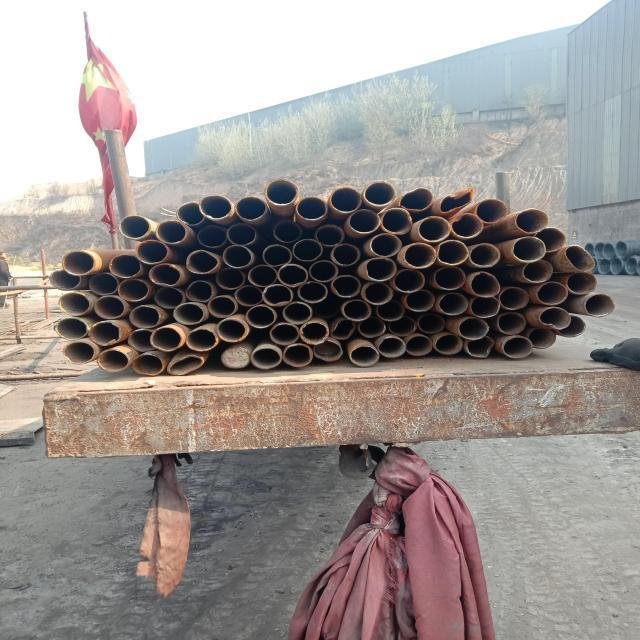pipe: (562, 243, 598, 274), (437, 188, 477, 215), (380, 207, 416, 237), (401, 242, 442, 268), (448, 212, 486, 240), (361, 178, 396, 208), (468, 270, 502, 300), (133, 240, 172, 266), (146, 263, 184, 289), (126, 303, 164, 329), (396, 186, 434, 212), (264, 177, 298, 206), (469, 242, 504, 270), (434, 238, 469, 266), (582, 293, 618, 320), (415, 216, 451, 243), (61, 250, 98, 276), (184, 249, 221, 275), (234, 195, 268, 223), (514, 207, 548, 235), (198, 194, 234, 220), (536, 305, 572, 331), (214, 318, 250, 344), (475, 197, 508, 225), (296, 195, 330, 222), (534, 226, 568, 253), (512, 237, 546, 264), (154, 220, 189, 246), (363, 257, 398, 283), (359, 280, 394, 306), (403, 288, 438, 314), (330, 186, 362, 214), (89, 319, 122, 346), (115, 278, 152, 302), (348, 208, 382, 234), (368, 232, 402, 258), (328, 272, 362, 298), (124, 327, 159, 352), (534, 281, 569, 306), (563, 272, 601, 295), (54, 316, 90, 340), (60, 340, 96, 364), (170, 302, 206, 326), (92, 295, 125, 321), (150, 326, 183, 352), (166, 354, 205, 376), (329, 242, 362, 268), (244, 304, 277, 330), (108, 253, 142, 278), (96, 348, 130, 373), (393, 268, 427, 293), (498, 287, 532, 312), (57, 291, 92, 315), (275, 263, 310, 287), (118, 214, 150, 240), (272, 218, 304, 244), (222, 244, 254, 270), (174, 201, 207, 226), (152, 285, 185, 310), (195, 224, 229, 248), (433, 266, 467, 290), (458, 316, 490, 341), (268, 322, 300, 347), (282, 343, 314, 368), (47, 268, 83, 290), (185, 328, 218, 352), (500, 336, 536, 358), (281, 300, 314, 324), (249, 346, 282, 370), (87, 272, 121, 295), (130, 353, 164, 376), (522, 260, 554, 284), (314, 224, 346, 248), (496, 312, 528, 336), (438, 292, 470, 316), (340, 298, 372, 322), (405, 334, 435, 359), (206, 294, 237, 318), (308, 259, 339, 283), (182, 279, 214, 302), (261, 245, 293, 268), (216, 267, 246, 291), (248, 264, 278, 288), (220, 346, 250, 370), (469, 295, 500, 318), (348, 344, 379, 367), (464, 336, 496, 358), (296, 282, 328, 304), (226, 223, 256, 246), (558, 315, 588, 338), (434, 334, 465, 356), (298, 322, 329, 344), (528, 327, 557, 350), (358, 316, 388, 338), (376, 336, 406, 358), (313, 340, 343, 362), (387, 317, 419, 337), (417, 312, 446, 334), (330, 318, 358, 340), (376, 302, 406, 321), (312, 298, 340, 318)
